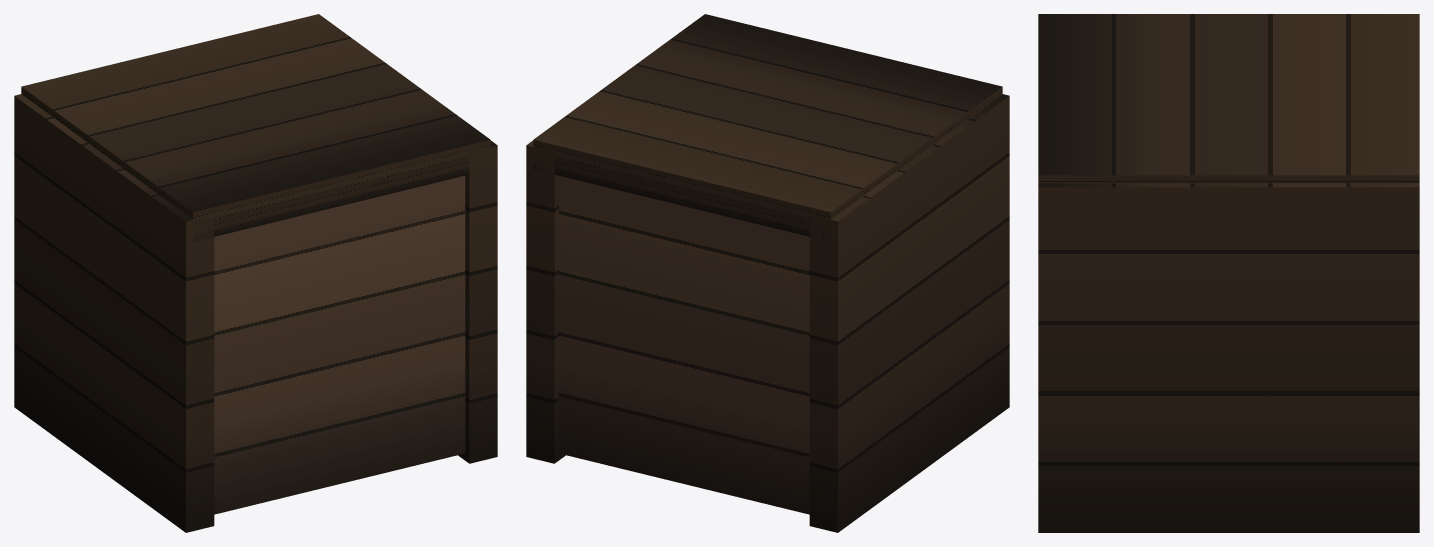
The model's file is crate.glb.
The picture shows the model from 3 angles, left to right: view 1: azimuth 30°, elevation 25°; view 2: azimuth 150°, elevation 25°; view 3: azimuth 270°, elevation 25°; orthographic projection. The views are drawn at different scales.
Parts seen in each view (by area): view 1: crate; view 2: crate; view 3: crate.
Boxes of the visible parts, box(x1,y1,x2,y2) form: crate: box(14, 14, 497, 532); crate: box(526, 14, 1009, 532); crate: box(1038, 14, 1419, 532).
Bounding box in the file's own units: 0.44 × 0.43 × 0.42.
1 material, 1 textured.
